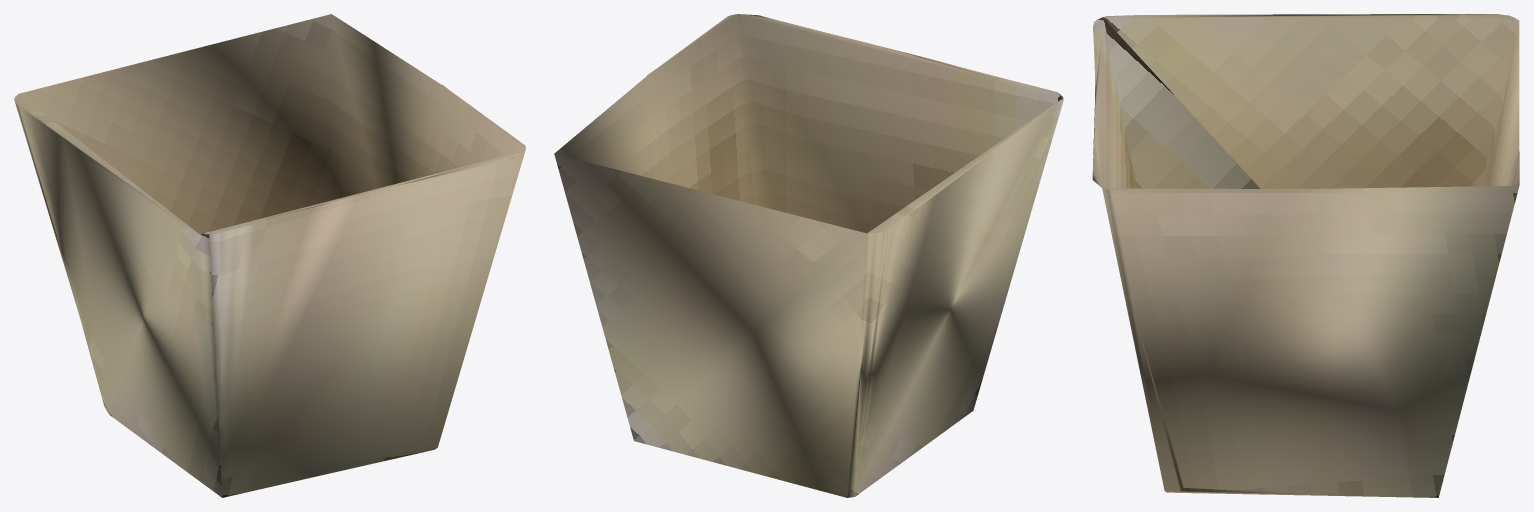
File: Ecoforms_Plant_Container_Quadra_Sand_QP6-low.glb
3 renders of one model, left to right at view 1: azimuth 30°, elevation 25°; view 2: azimuth 150°, elevation 25°; view 3: azimuth 270°, elevation 25°, orthographic. The views are drawn at different scales.
Parts seen in each view (by area): view 1: Ecoforms_Plant_Container_Quadra_Sand_QP6; view 2: Ecoforms_Plant_Container_Quadra_Sand_QP6; view 3: Ecoforms_Plant_Container_Quadra_Sand_QP6.
Boxes of the visible parts, x1,y1,x2,y2 form: Ecoforms_Plant_Container_Quadra_Sand_QP6: (14, 14, 525, 497); Ecoforms_Plant_Container_Quadra_Sand_QP6: (554, 14, 1063, 497); Ecoforms_Plant_Container_Quadra_Sand_QP6: (1092, 14, 1519, 497).
Size of the model in its own units: 0.1889 by 0.1672 by 0.1886.
1 material, 1 textured.
